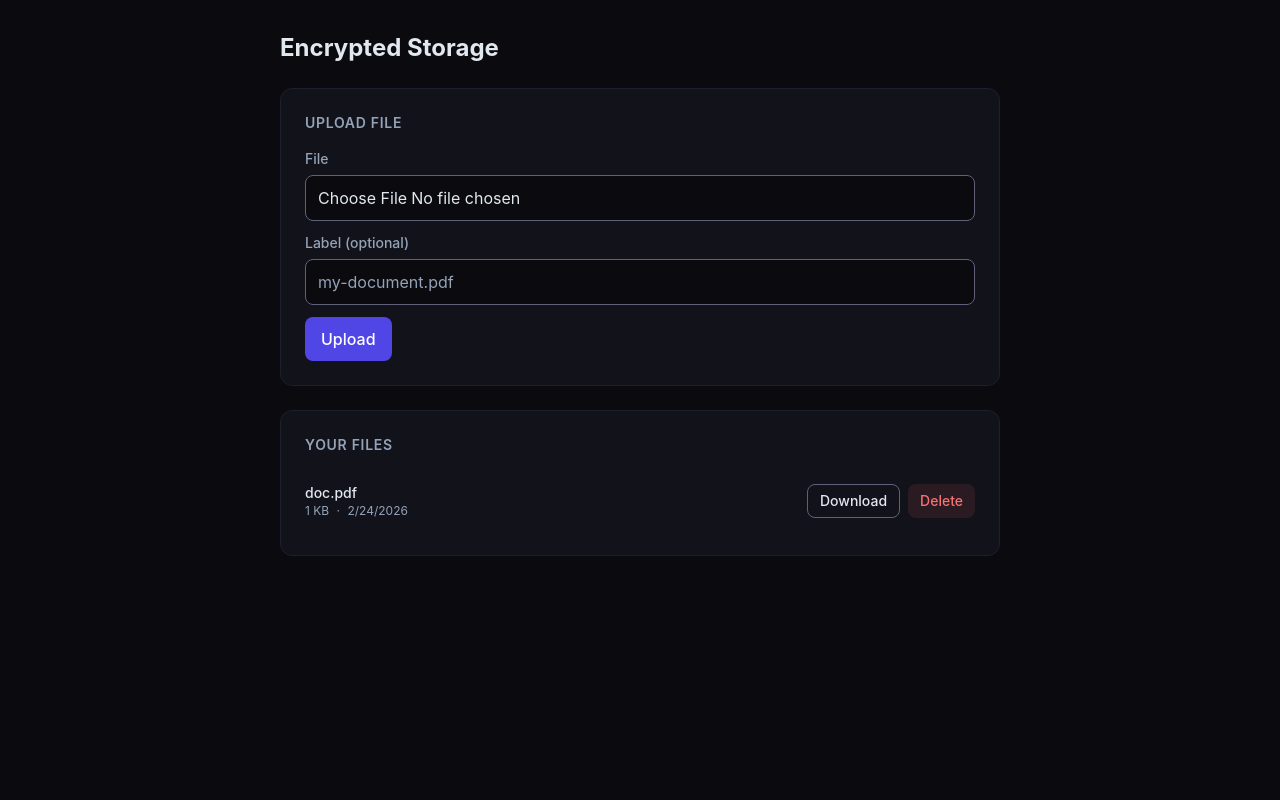
Test case: BlobsView › shows cancel button in delete modal
Open delete modal
Click the button "Delete". click: (942,501)
box: [908, 484, 975, 518]
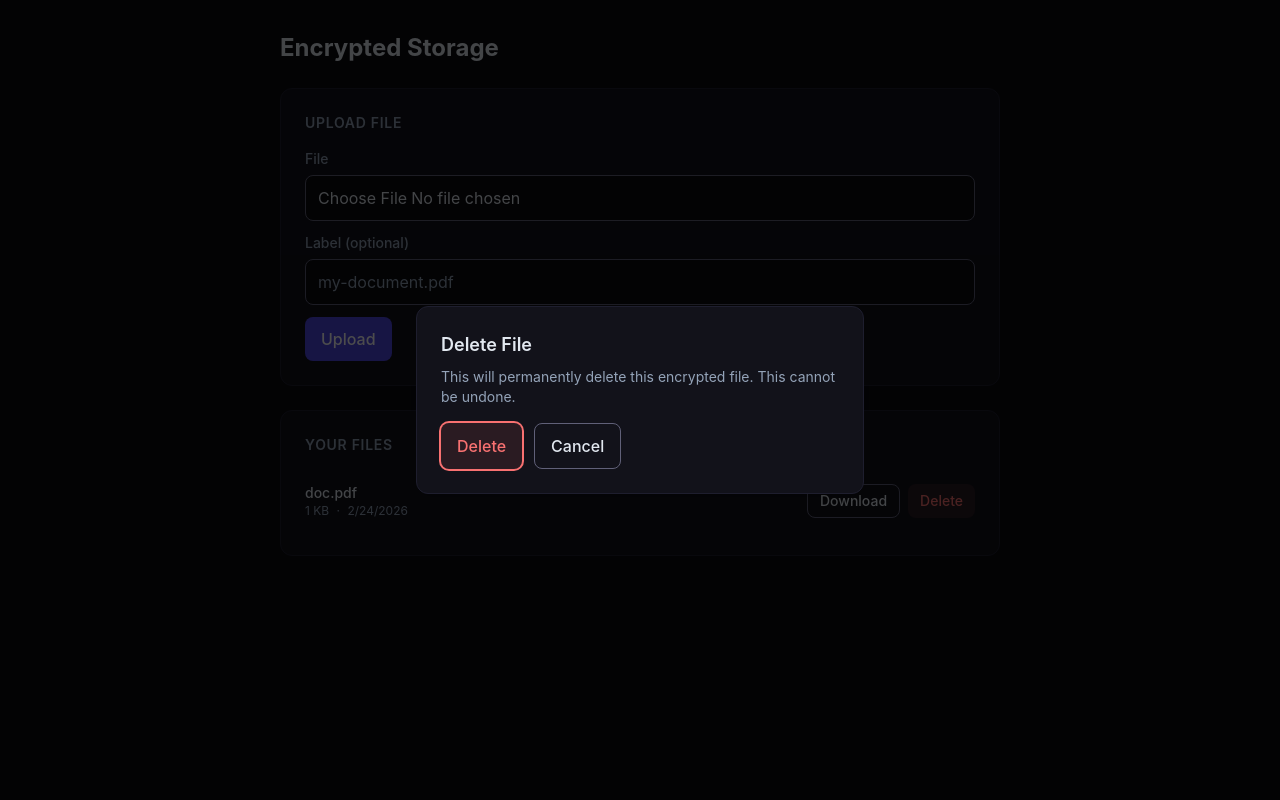
Expected: the button "Cancel" is shown, [534, 423, 621, 469]
